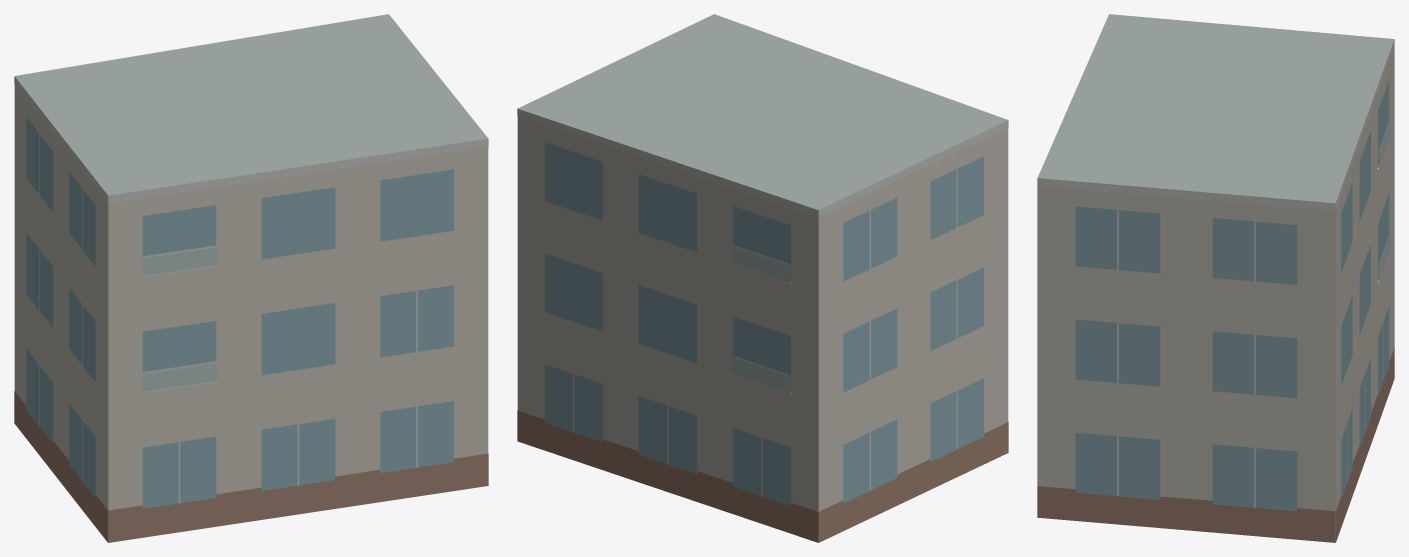
File: survey-upis-32686366.glb
3 views of the same model, side by side, from view 1: azimuth 30°, elevation 25°; view 2: azimuth 150°, elevation 25°; view 3: azimuth 270°, elevation 25° (orthographic). The views are drawn at different scales.
Parts seen in each view (by area): view 1: survey-upis-32686366.tmp; view 2: survey-upis-32686366.tmp; view 3: survey-upis-32686366.tmp.
Boxes of the visible parts, x1,y1,x2,y2 form: survey-upis-32686366.tmp: (14, 14, 488, 542); survey-upis-32686366.tmp: (517, 14, 1008, 542); survey-upis-32686366.tmp: (1037, 14, 1394, 542).
Size of the model in its own units: 12.68 by 10.6 by 10.11.
